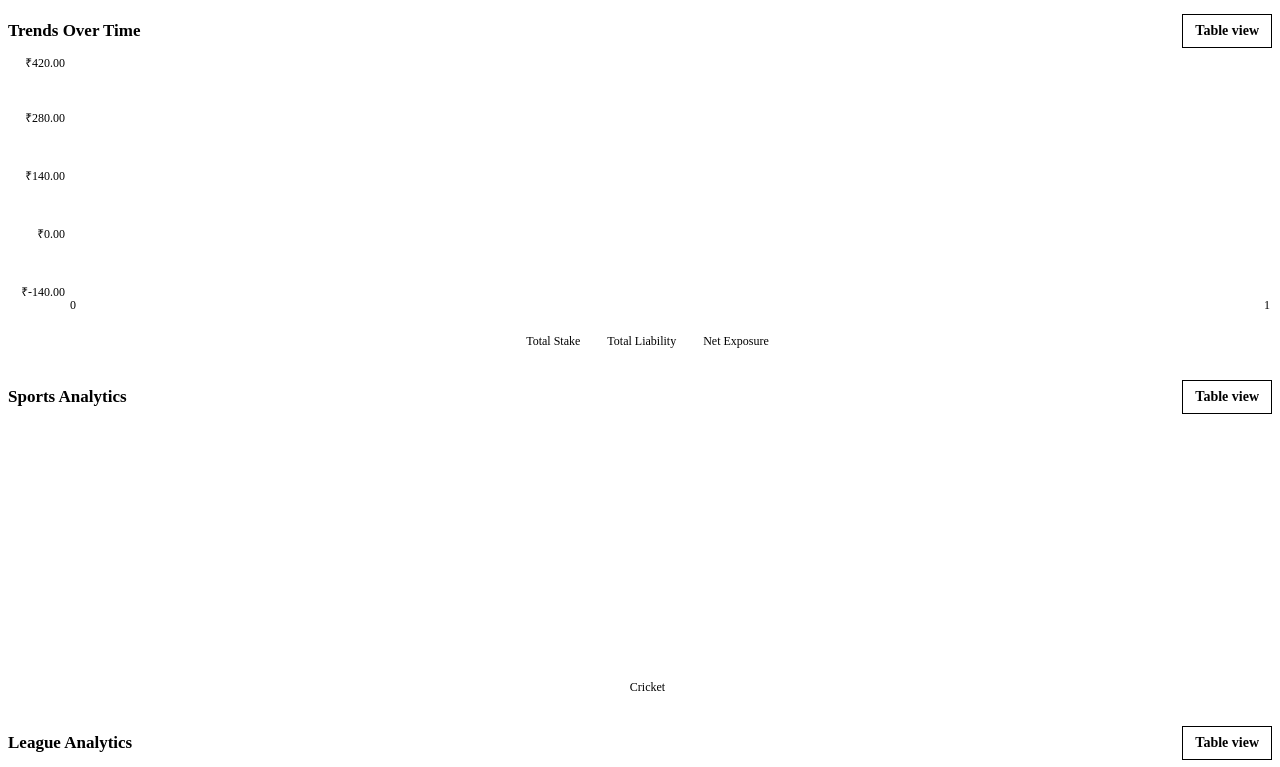
Test: analytics table mode preserves every financial column and view toggles on all sections
The width and height of the screenshot is (1280, 767).
Later steps or results of the test are not shown.
Click the button "Table view" in the row of "Trends Over Time" at [1227, 31], box [1182, 14, 1272, 48]
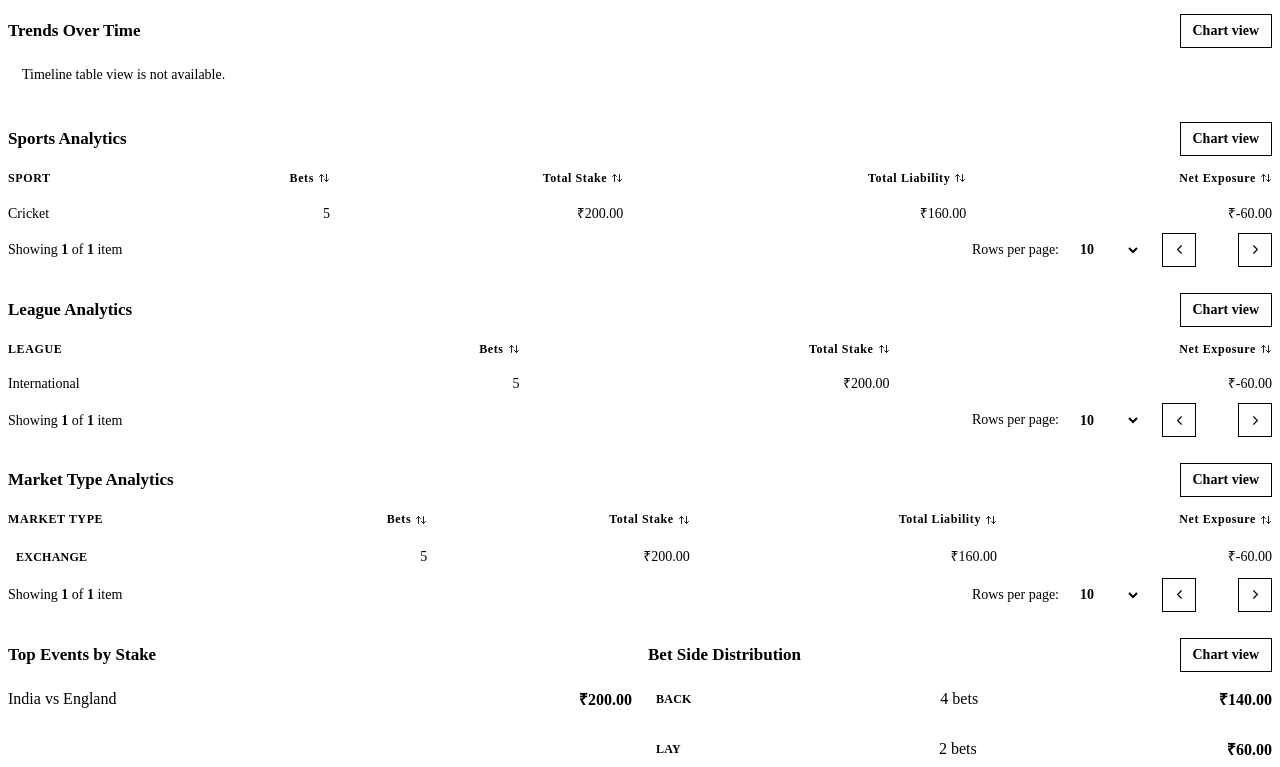
Result: the text "Timeline table view is not available." is shown at [22, 67, 225, 82]
Result: the column heading "Sport" is shown at [8, 162, 161, 195]
Result: the 1st column heading "Bets" is shown at [161, 162, 342, 195]
